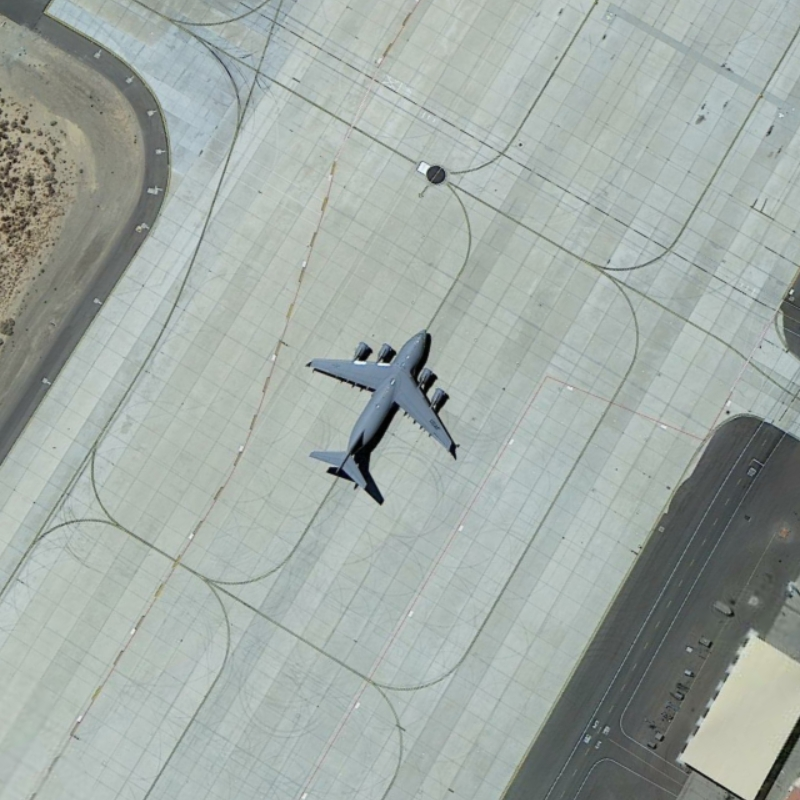A3: (296, 324, 465, 500)
